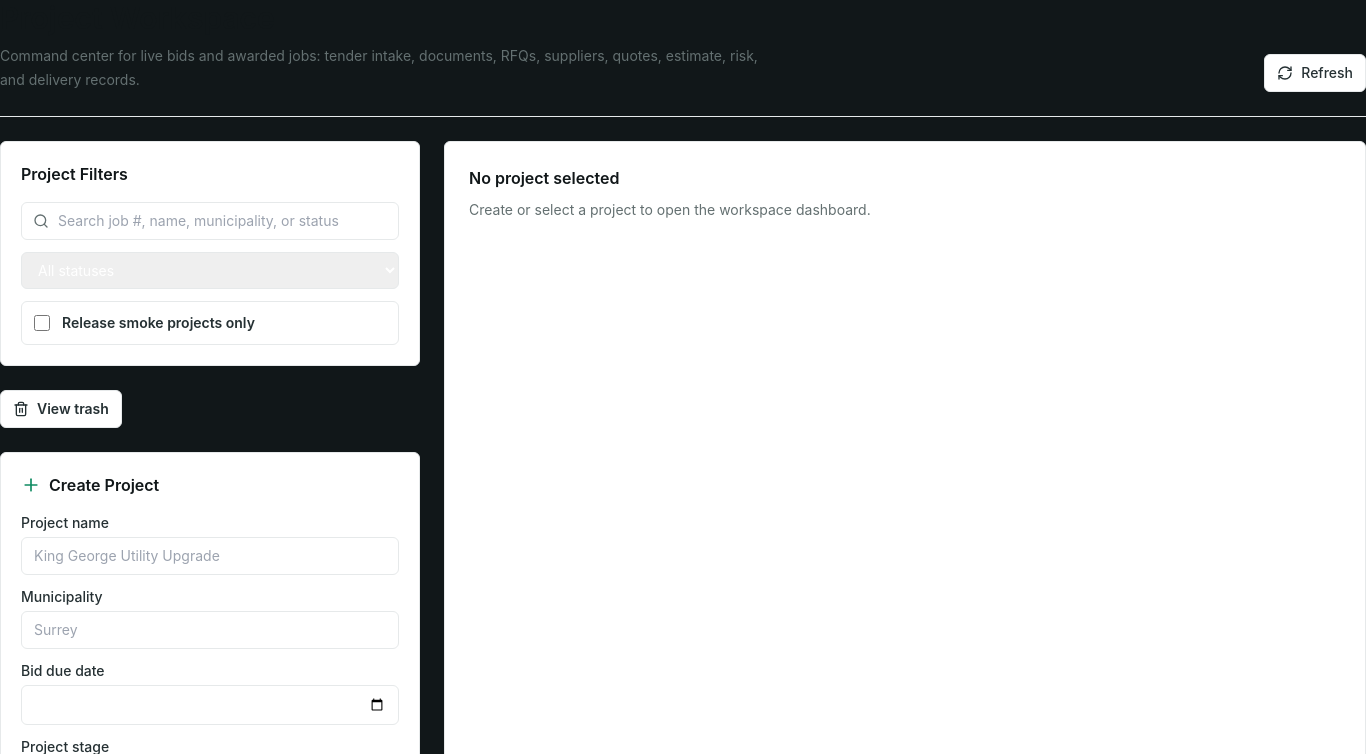
Test case: ProjectWorkspacePage › re-reads the active release-smoke set before confirmation so retries skip already-trashed records
The image size is (1366, 754).
Click the checkbox labelled "Release smoke projects only".
click(42, 323)  # box [34,315,50,331]
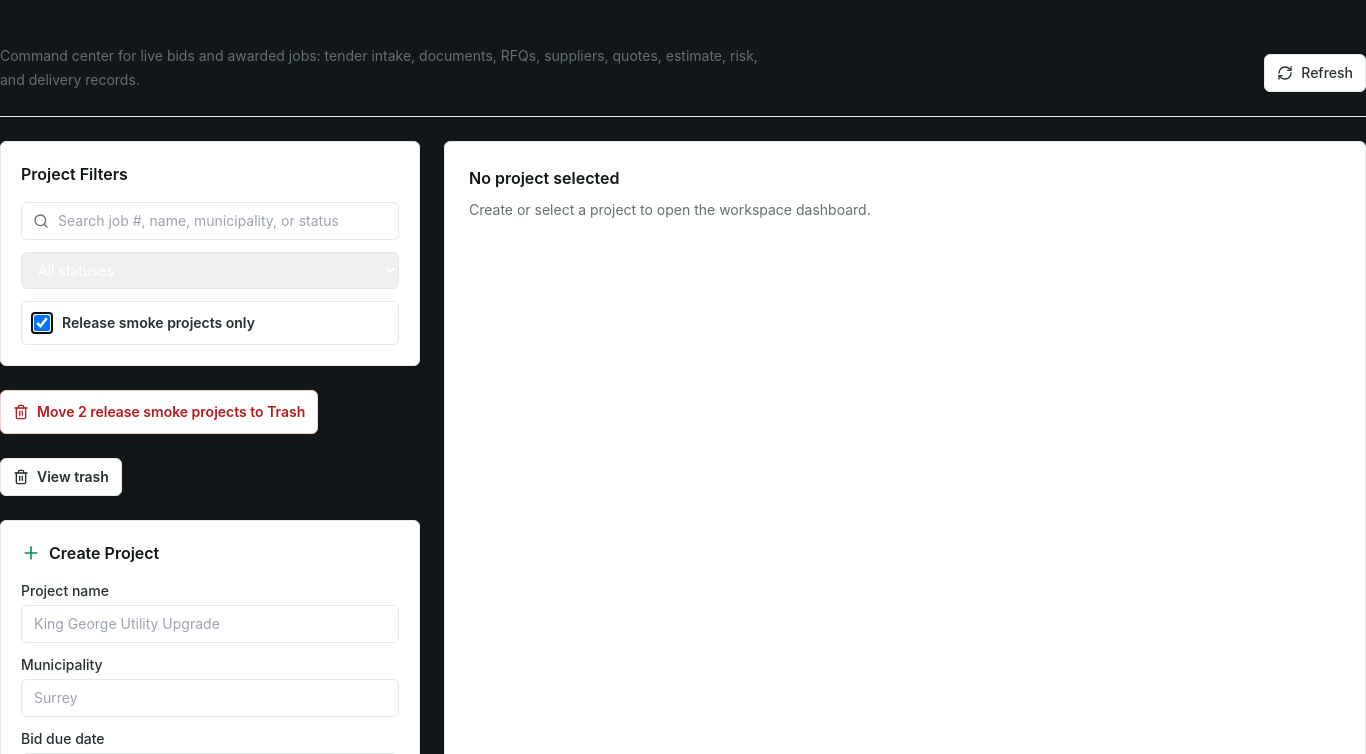
Expected: the button "Move 2 release smoke projects to Trash" is shown
Click the button "Move 2 release smoke projects to Trash".
click(159, 412)  # box [0,390,318,434]
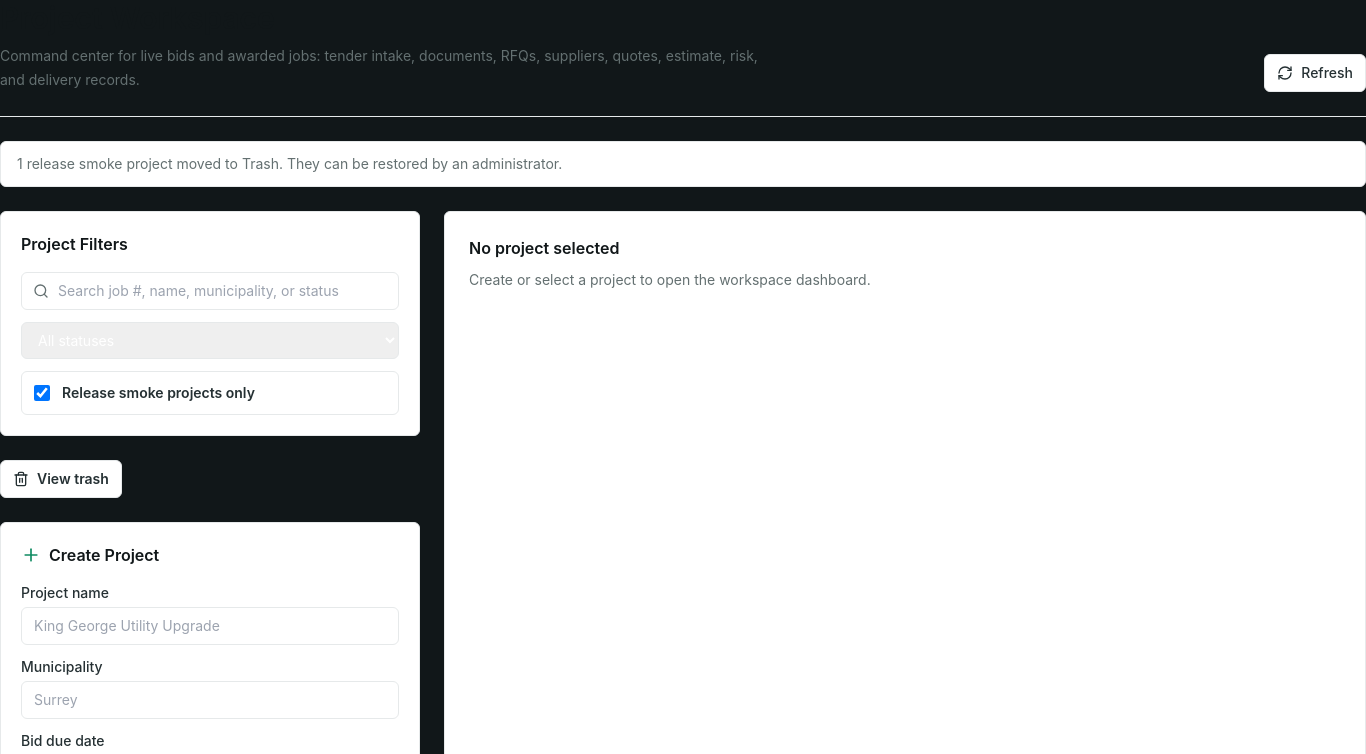
Expected: the text "1 release smoke project moved to Trash. They can be restored by an administrator." is shown, [17,155,562,172]
